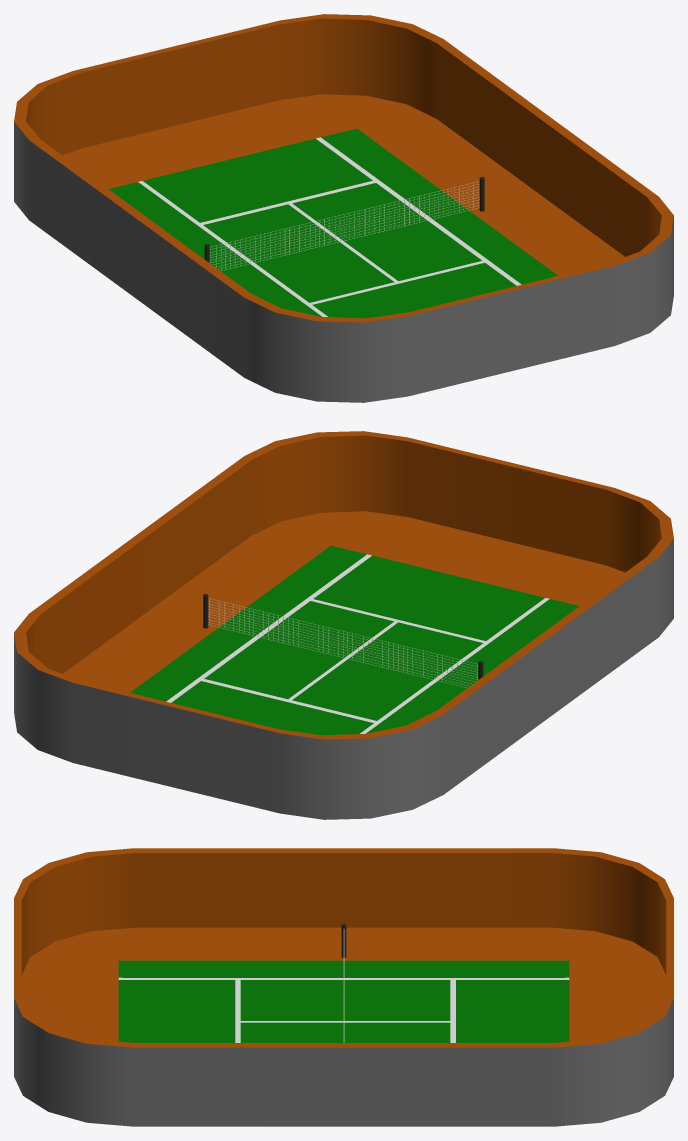
The model's file is TennisCourt.fbx.
3 renders of one model, top to bottom at view 1: azimuth 30°, elevation 25°; view 2: azimuth 150°, elevation 25°; view 3: azimuth 270°, elevation 25°, orthographic.
Visible parts, largest first — view 1: pCube2, pCube1; view 2: pCube2, pCube1; view 3: pCube2, pCube1.
Boxes of the visible parts, x1=… form: pCube2: x1=14, y1=14, x2=673, y2=402; pCube1: x1=109, y1=128, x2=557, y2=318; pCube2: x1=14, y1=431, x2=673, y2=819; pCube1: x1=130, y1=545, x2=578, y2=735; pCube2: x1=14, y1=848, x2=673, y2=1126; pCube1: x1=118, y1=960, x2=569, y2=1042.
Bounding box in the file's own units: 18.06 × 3.34 × 25.29.
